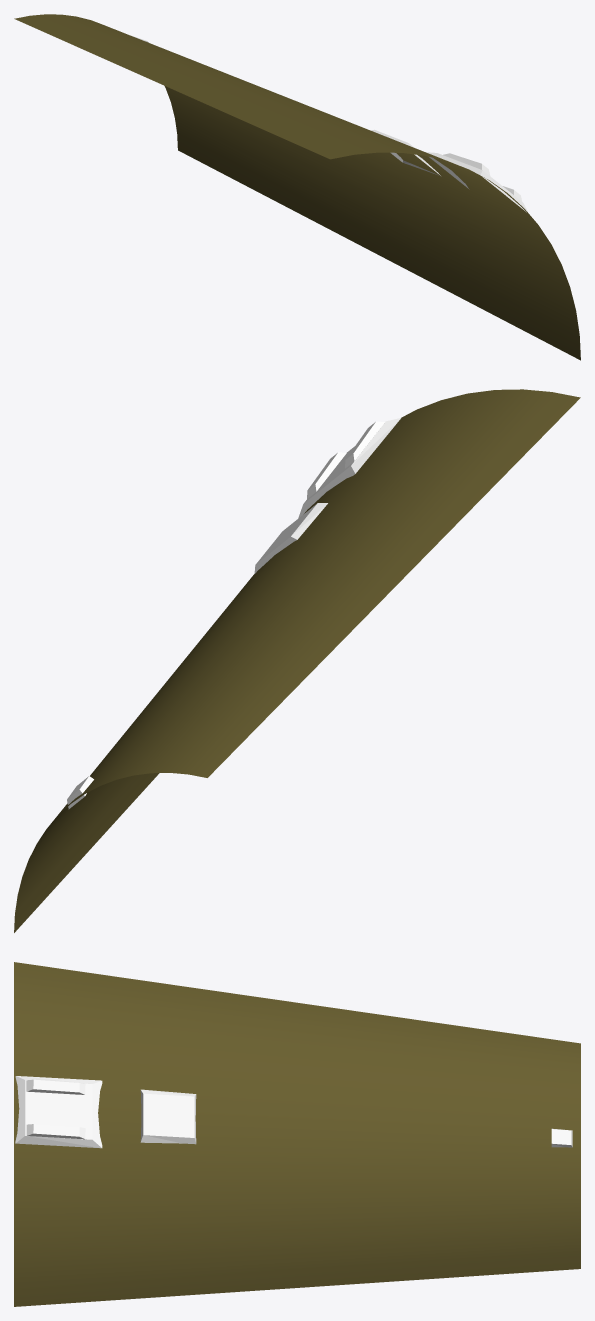
Rendered from sat5stg33.obj.
3 views of the same model, one above another, from view 1: azimuth 30°, elevation 25°; view 2: azimuth 150°, elevation 25°; view 3: azimuth 270°, elevation 25° (orthographic). The views are drawn at different scales.
Visible parts, largest first — view 1: group0; view 2: group0; view 3: group0, group25, group26, group7, group8.
Boxes of the visible parts, x1=… form: group0: x1=14, y1=14, x2=580, y2=360; group0: x1=14, y1=389, x2=580, y2=932; group0: x1=14, y1=962, x2=580, y2=1306; group25: x1=25, y1=1084, x2=92, y2=1139; group26: x1=25, y1=1080, x2=92, y2=1135; group7: x1=144, y1=1097, x2=194, y2=1137; group8: x1=143, y1=1093, x2=193, y2=1134.
Size of the model in its own units: 2.99 by 2.99 by 6.53.
